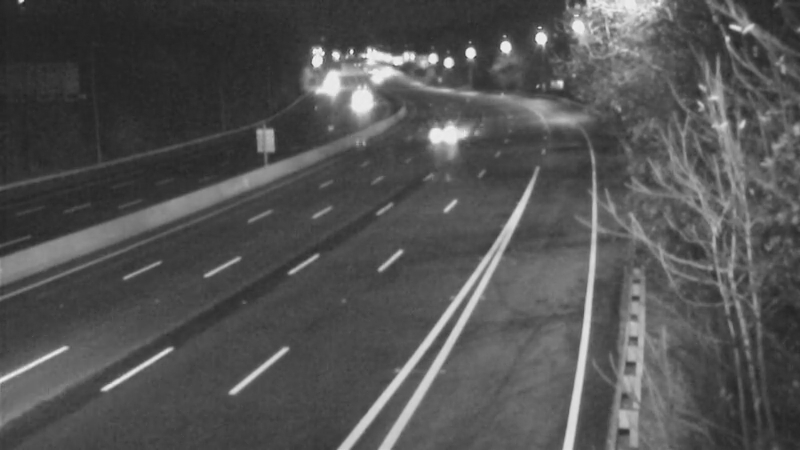vehicle: (425, 107, 475, 157), (333, 75, 383, 125), (307, 56, 357, 106)
